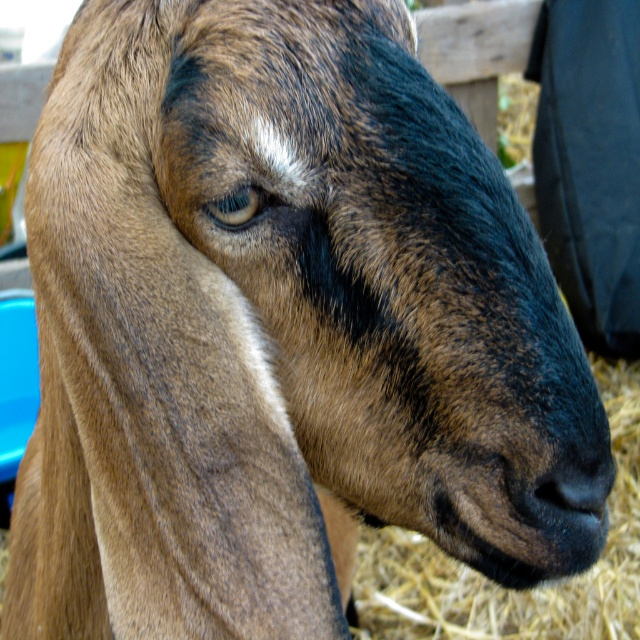Goat: (1, 0, 618, 639)
